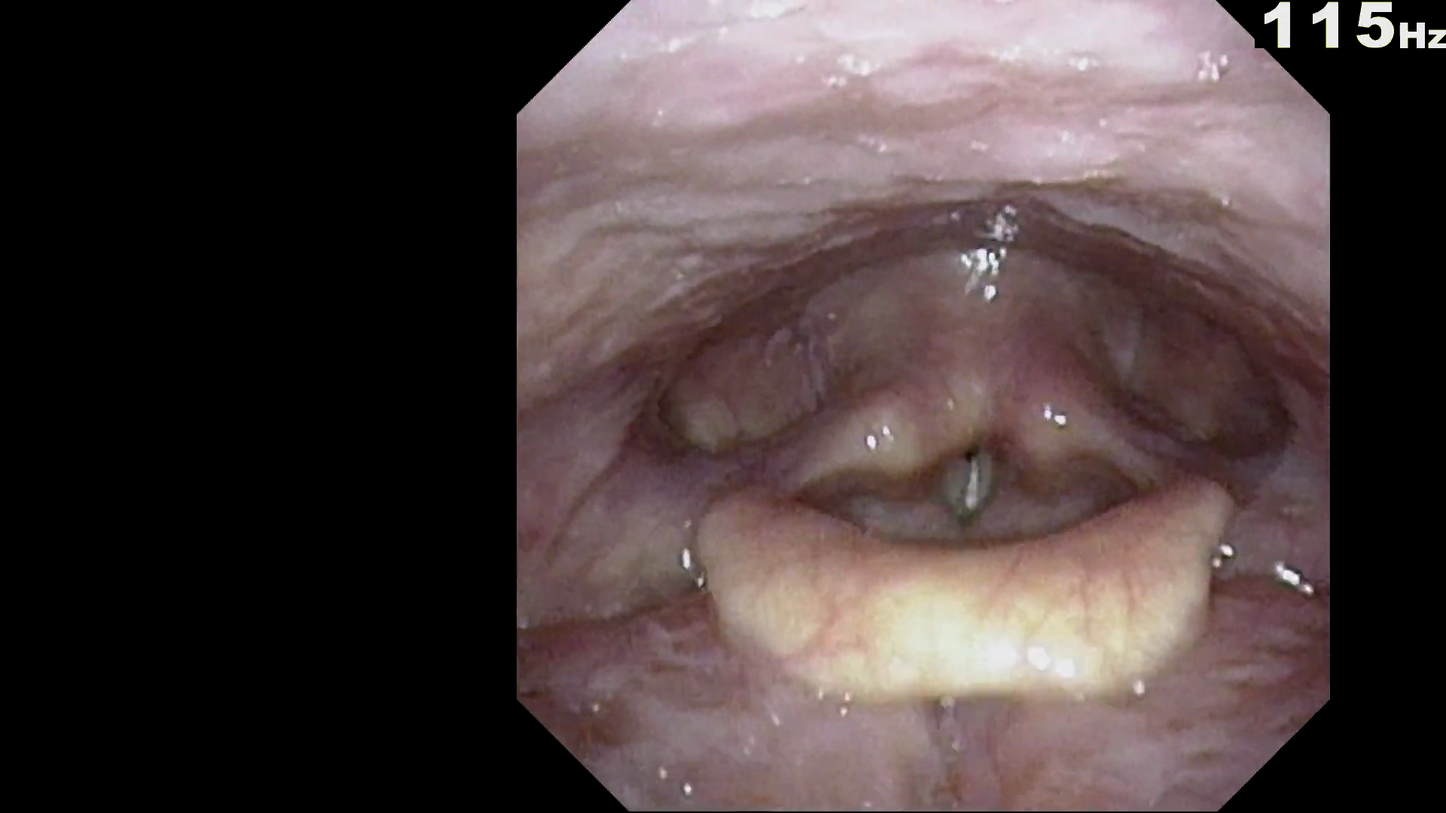epiglottis: (680, 468, 1260, 702)
trachea: (920, 429, 1025, 554)
